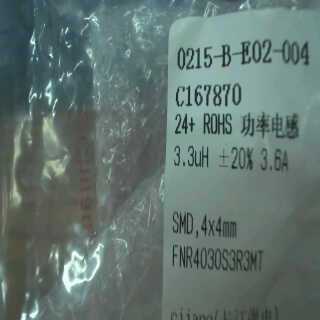3.3uH: (166, 138, 209, 175)
